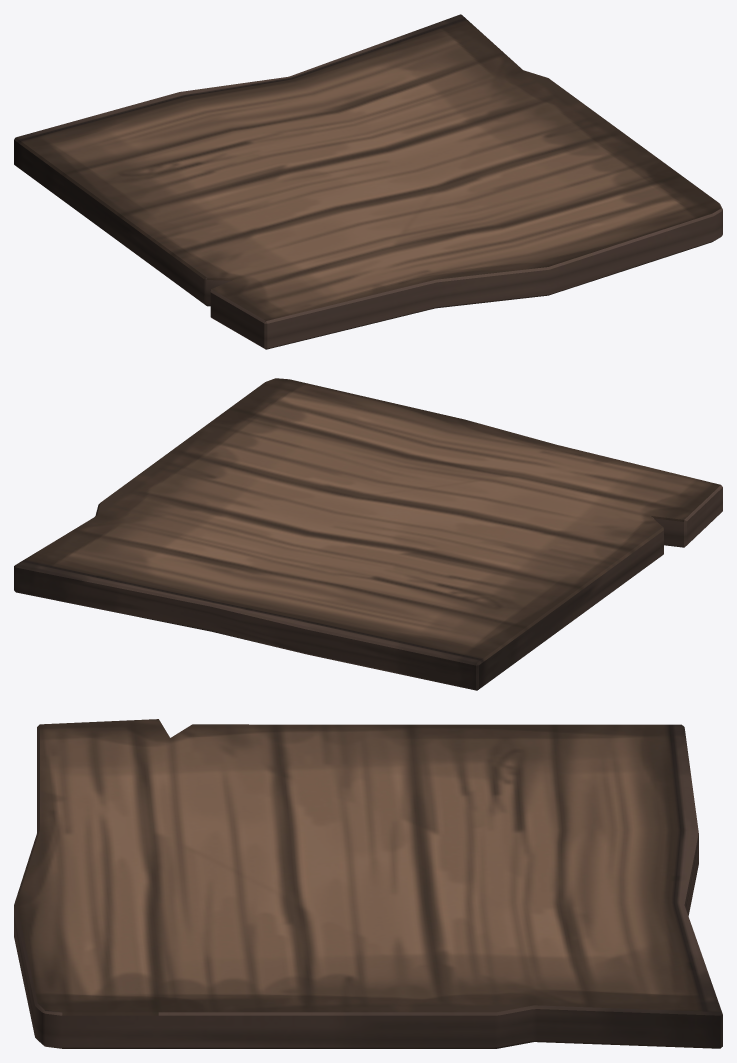
Rendered from Z1_Wood_Platform_2.FBX.
The picture shows the model from 3 angles, top to bottom: view 1: azimuth 30°, elevation 25°; view 2: azimuth 150°, elevation 25°; view 3: azimuth 270°, elevation 25°; orthographic projection. The views are drawn at different scales.
Parts seen in each view (by area): view 1: Z1_Wood_Platform_2; view 2: Z1_Wood_Platform_2; view 3: Z1_Wood_Platform_2.
Boxes of the visible parts, x1,y1,x2,y2 form: Z1_Wood_Platform_2: (14, 14, 722, 349); Z1_Wood_Platform_2: (14, 378, 722, 690); Z1_Wood_Platform_2: (14, 719, 722, 1048).
Bounding box in the file's own units: 254 × 17.77 × 258.
